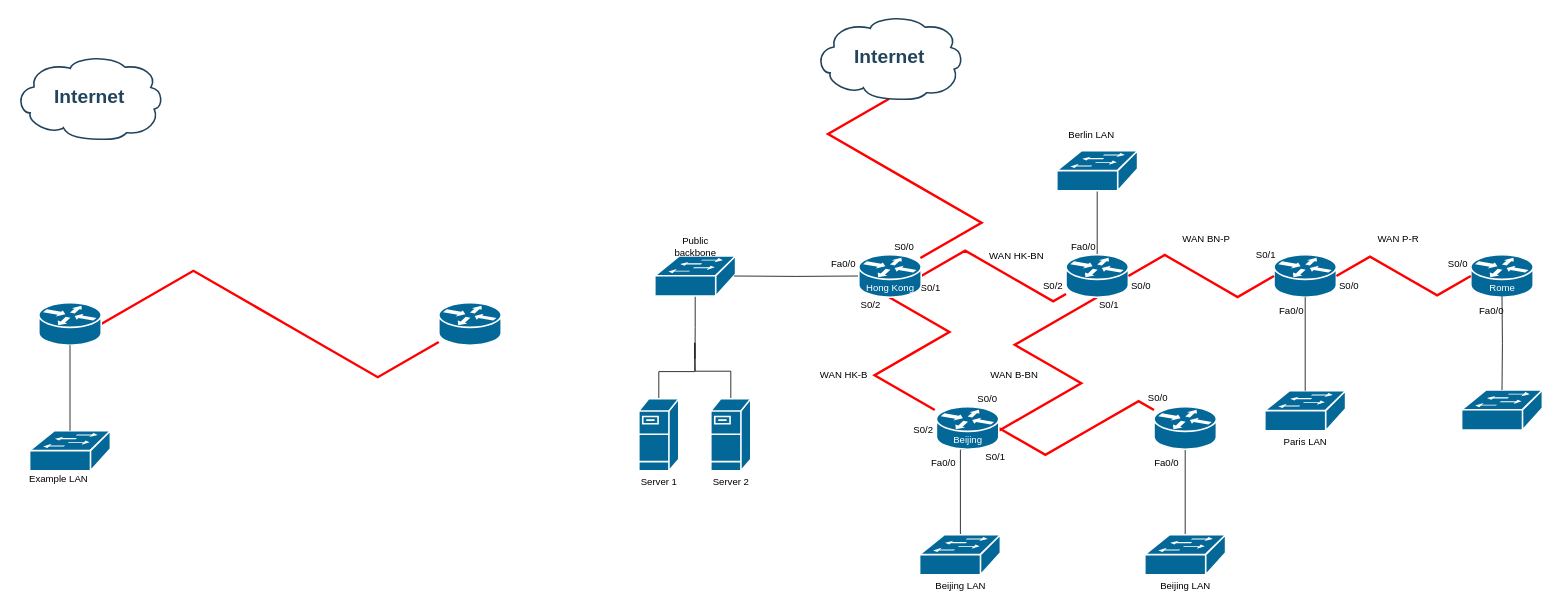
The diagram is 1557 pixels wide and 605 high, and some of its shapes have lost their labels. Here are the shapes that lost their labels. From the top down, the box of each, then its label:
(1065, 254, 1129, 298): Berlin
(1273, 254, 1337, 298): Paris
(38, 302, 102, 346): Example
(1153, 406, 1217, 450): Shanghai
(1460, 389, 1543, 430): Rome LAN
